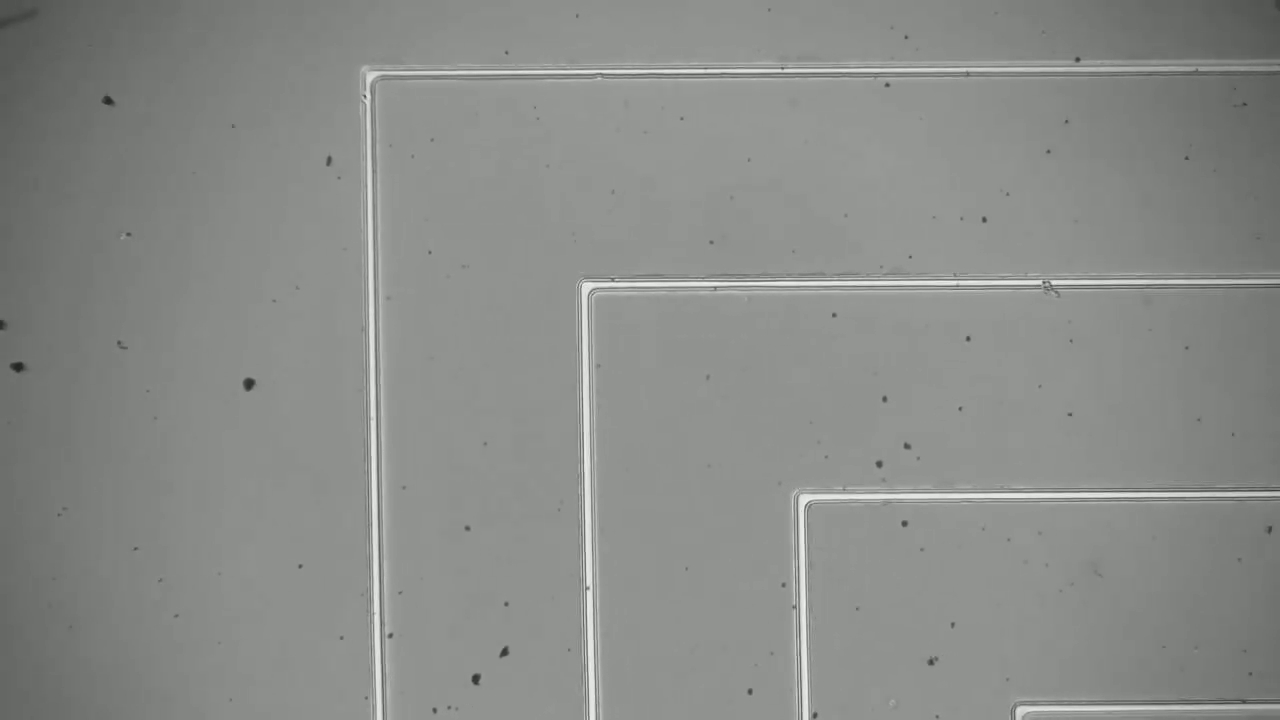stains_enbedded: (1029, 270, 1067, 303)
